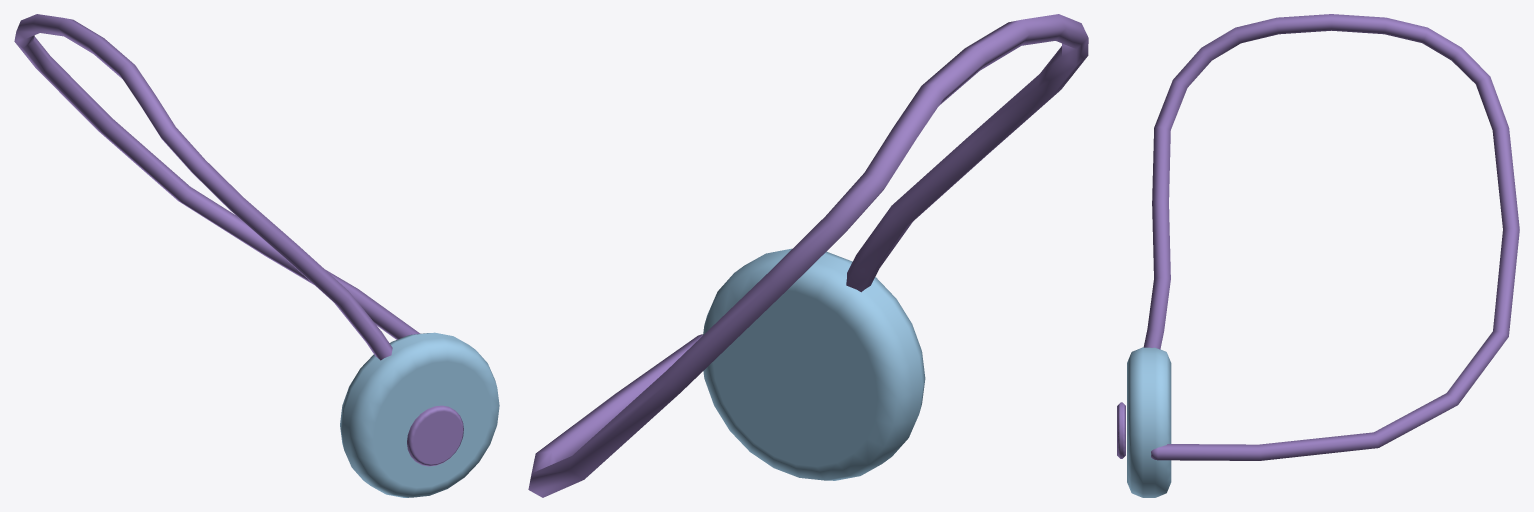
The model's file is fish_pochette.glb.
3 renders of one model, left to right at view 1: azimuth 30°, elevation 25°; view 2: azimuth 150°, elevation 25°; view 3: azimuth 270°, elevation 25°, orthographic. The views are drawn at different scales.
Parts seen in each view (by area): view 1: fish_pochette_Body; view 2: fish_pochette_Body; view 3: fish_pochette_Body.
Part boxes in pixels (x1,y1,x2,y2): fish_pochette_Body: [14, 14, 499, 497]; fish_pochette_Body: [528, 14, 1088, 497]; fish_pochette_Body: [1117, 14, 1519, 497].
Size of the model in its own units: 0.3533 by 0.4741 by 0.4526.
